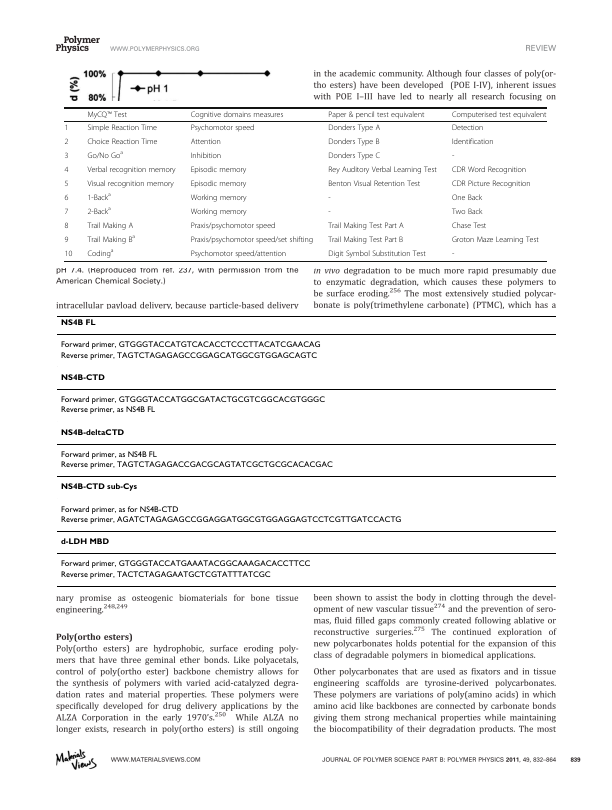borderless: (56, 314, 556, 586), (64, 106, 547, 261)
cell: (59, 515, 402, 525), (59, 460, 333, 470), (59, 395, 326, 405), (59, 351, 318, 361), (59, 341, 321, 350), (59, 560, 311, 569), (59, 570, 271, 580), (190, 235, 314, 245), (59, 505, 179, 515), (327, 165, 438, 175), (327, 249, 427, 259), (59, 450, 157, 460), (190, 249, 287, 259), (327, 179, 421, 189), (86, 165, 176, 175), (86, 179, 175, 189), (451, 235, 540, 245), (327, 110, 425, 119), (59, 406, 156, 415), (451, 110, 547, 119), (190, 221, 276, 231), (190, 110, 284, 119), (451, 179, 532, 189), (327, 221, 405, 231), (327, 235, 404, 245), (451, 165, 527, 175), (86, 123, 158, 133), (86, 137, 158, 147), (59, 483, 138, 492), (59, 428, 125, 438), (190, 123, 255, 133), (86, 233, 136, 245), (190, 193, 248, 203), (190, 207, 248, 217), (190, 165, 247, 175), (190, 179, 247, 189), (327, 123, 381, 133), (327, 151, 381, 161), (327, 137, 380, 147), (86, 221, 134, 231), (59, 373, 105, 383), (86, 149, 124, 161), (59, 538, 109, 547), (451, 137, 494, 147), (86, 110, 128, 119), (451, 221, 487, 231), (86, 247, 114, 259), (59, 319, 96, 328), (451, 123, 484, 133), (190, 137, 222, 147), (190, 151, 222, 161), (451, 193, 483, 203), (451, 207, 483, 217), (86, 191, 112, 203), (86, 205, 112, 217), (64, 249, 73, 259), (63, 123, 69, 133), (63, 137, 69, 147), (63, 151, 69, 161), (64, 165, 69, 175), (64, 179, 69, 189), (64, 193, 69, 203), (327, 193, 332, 203), (64, 207, 69, 217), (327, 207, 332, 217), (64, 221, 69, 231), (64, 235, 69, 245), (451, 151, 455, 161), (451, 249, 455, 259)
